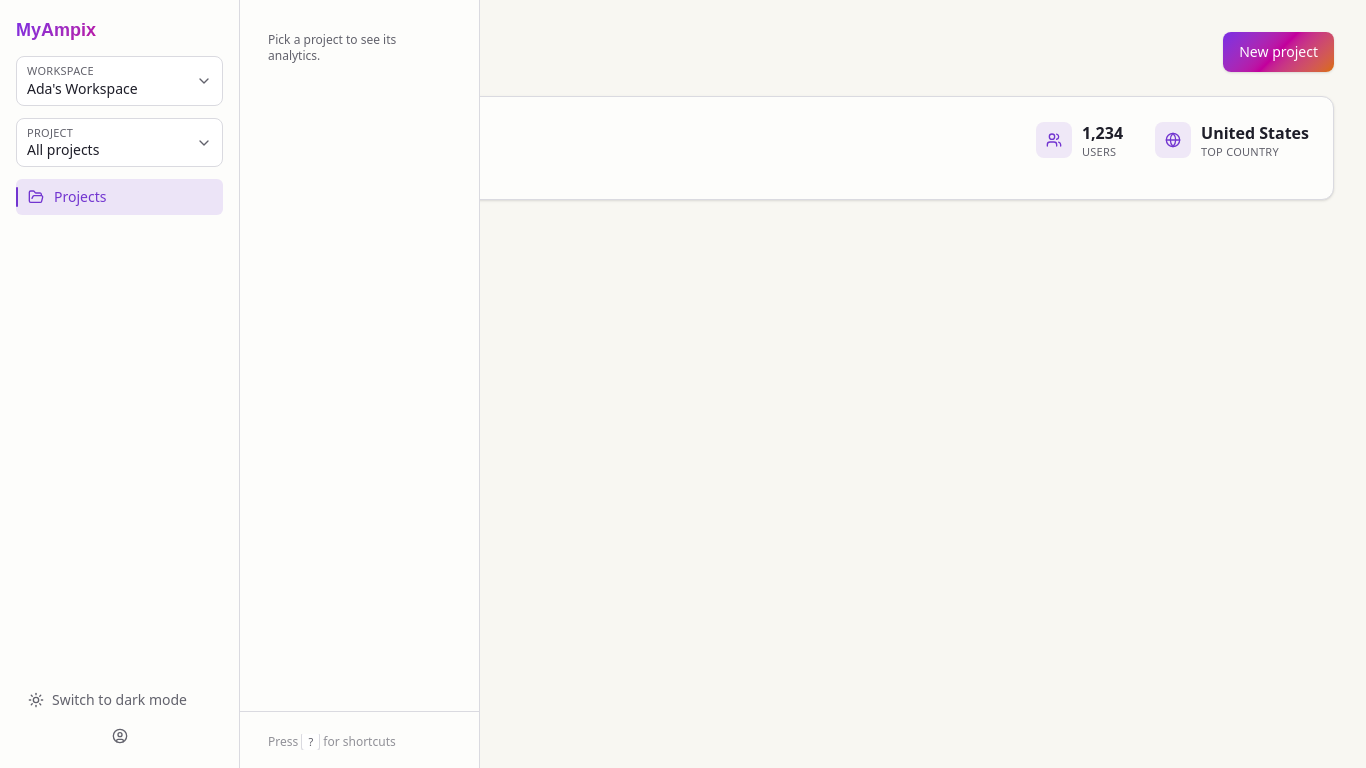
Test: OrgSwitcher › creates a new organization from the top of the menu and switches to it
The width and height of the screenshot is (1366, 768).
Hover over the element with test id "global-sidebar" at (120, 384), box [0,0,240,767]
Expected: the text "Ada's Workspace" is shown, [27,79,138,98]
Click the button with aria-label "Switch workspace" at (120, 81), box [16,56,223,106]
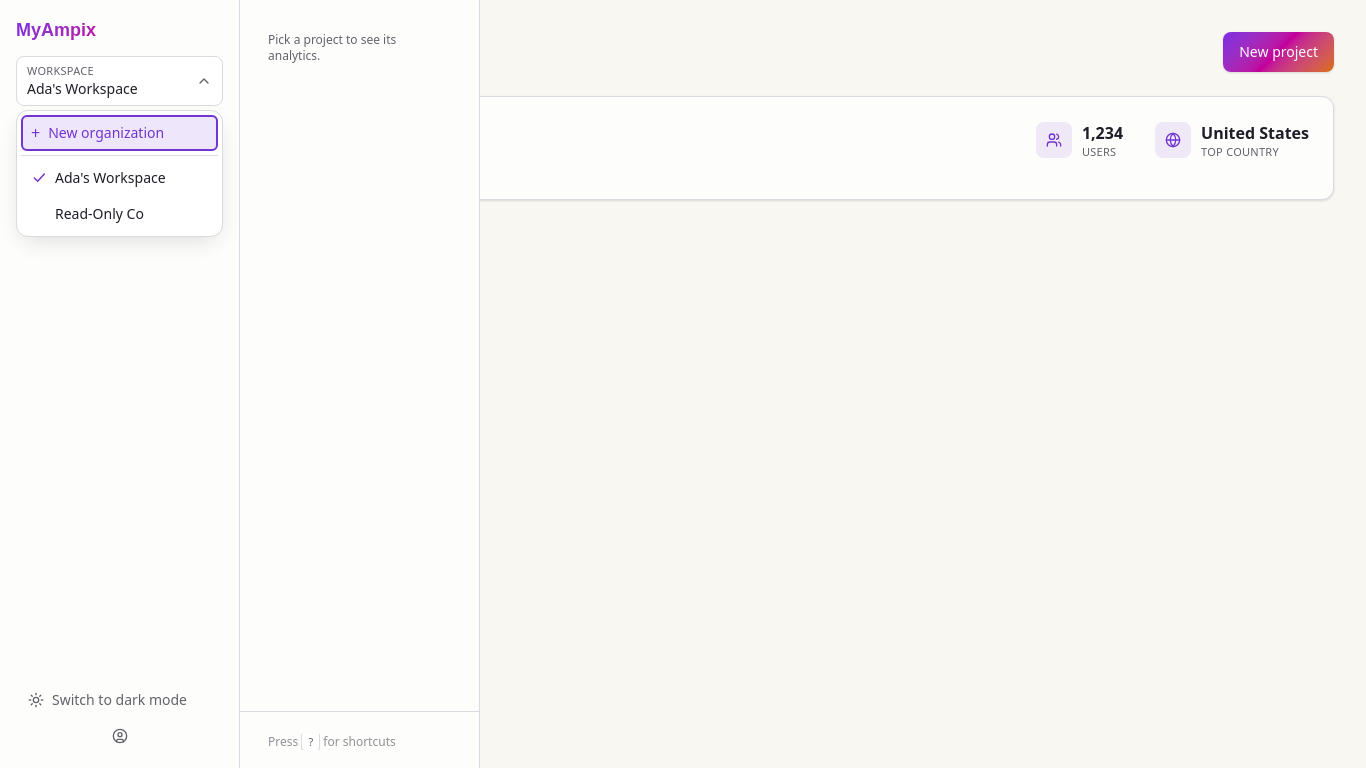
Click the menu item "+ New organization" at (120, 133), box [21,115,218,151]
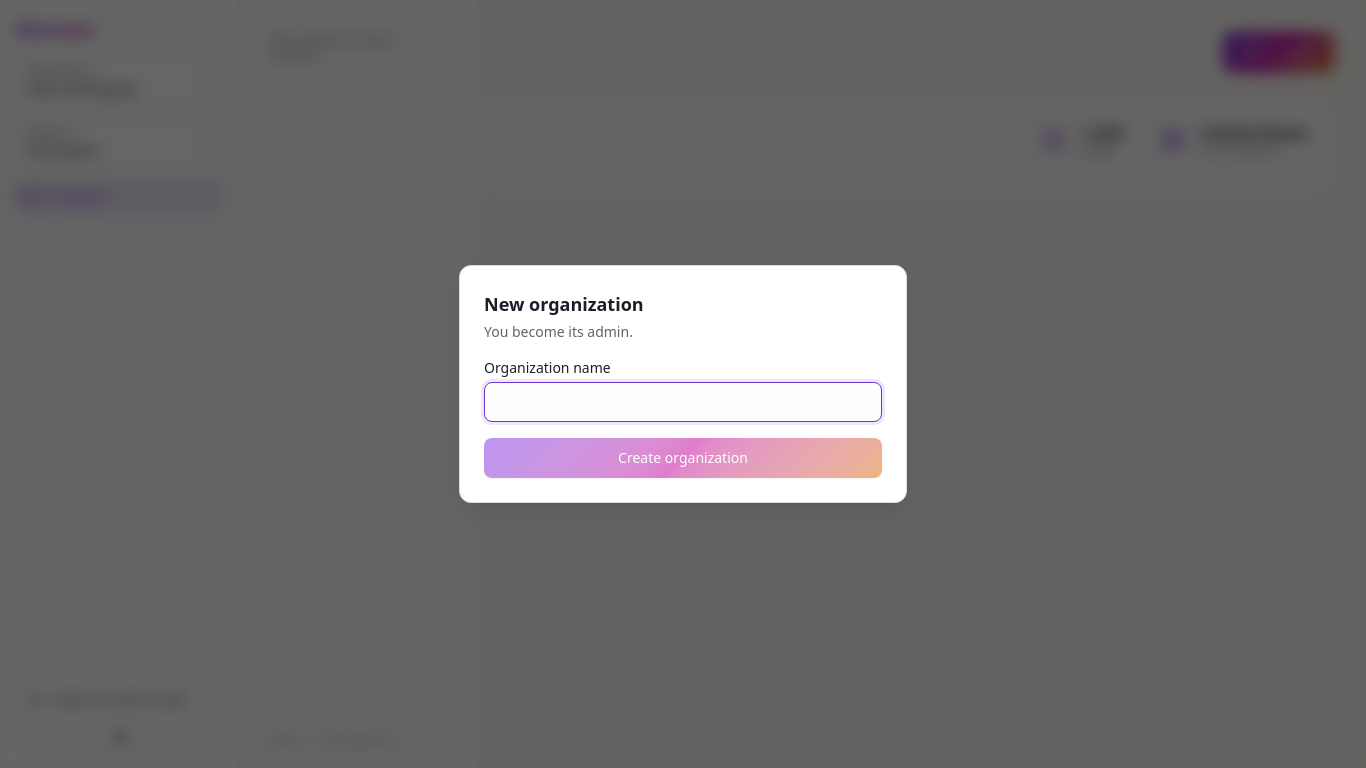
Type "Brand New Org" into the field labelled "Organization name" at (683, 402), box [484,382,882,422]
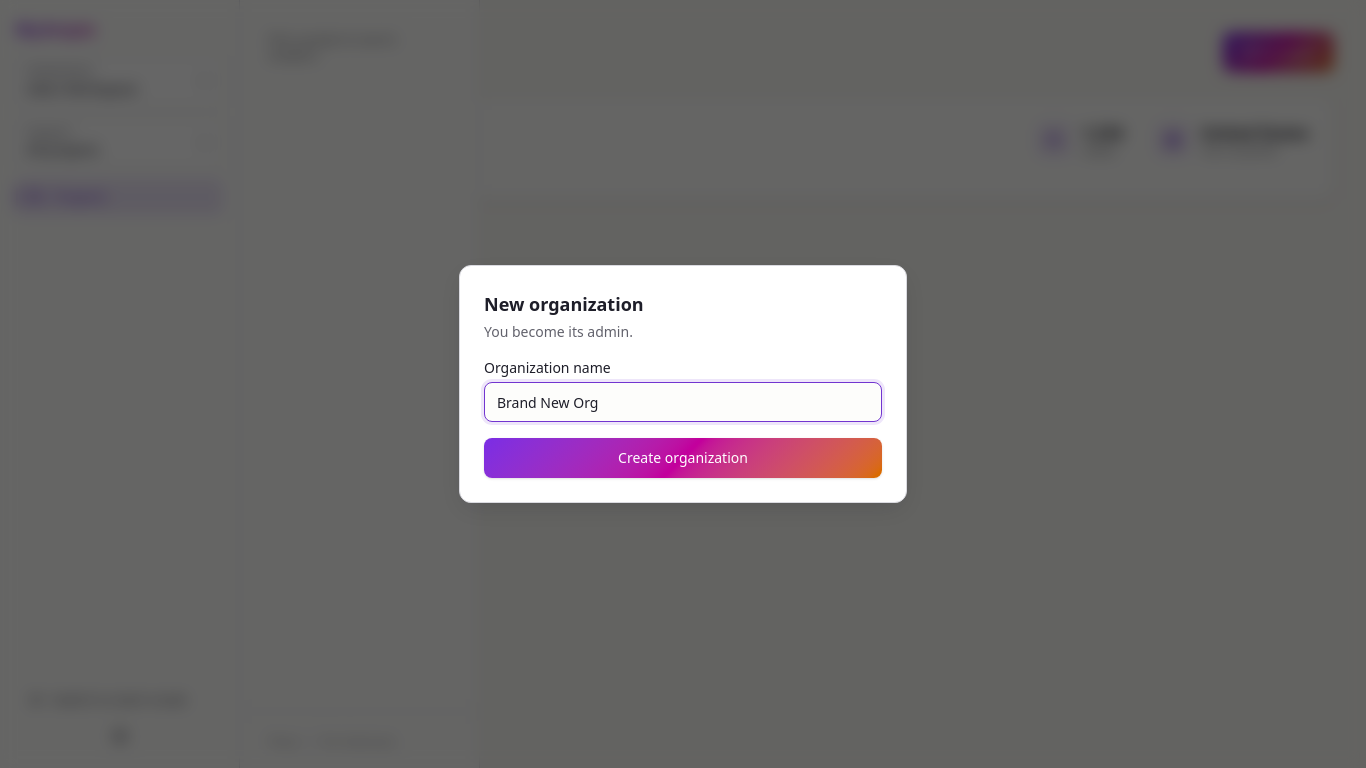
Click the button "Create organization" at (683, 458), box [484,438,882,478]
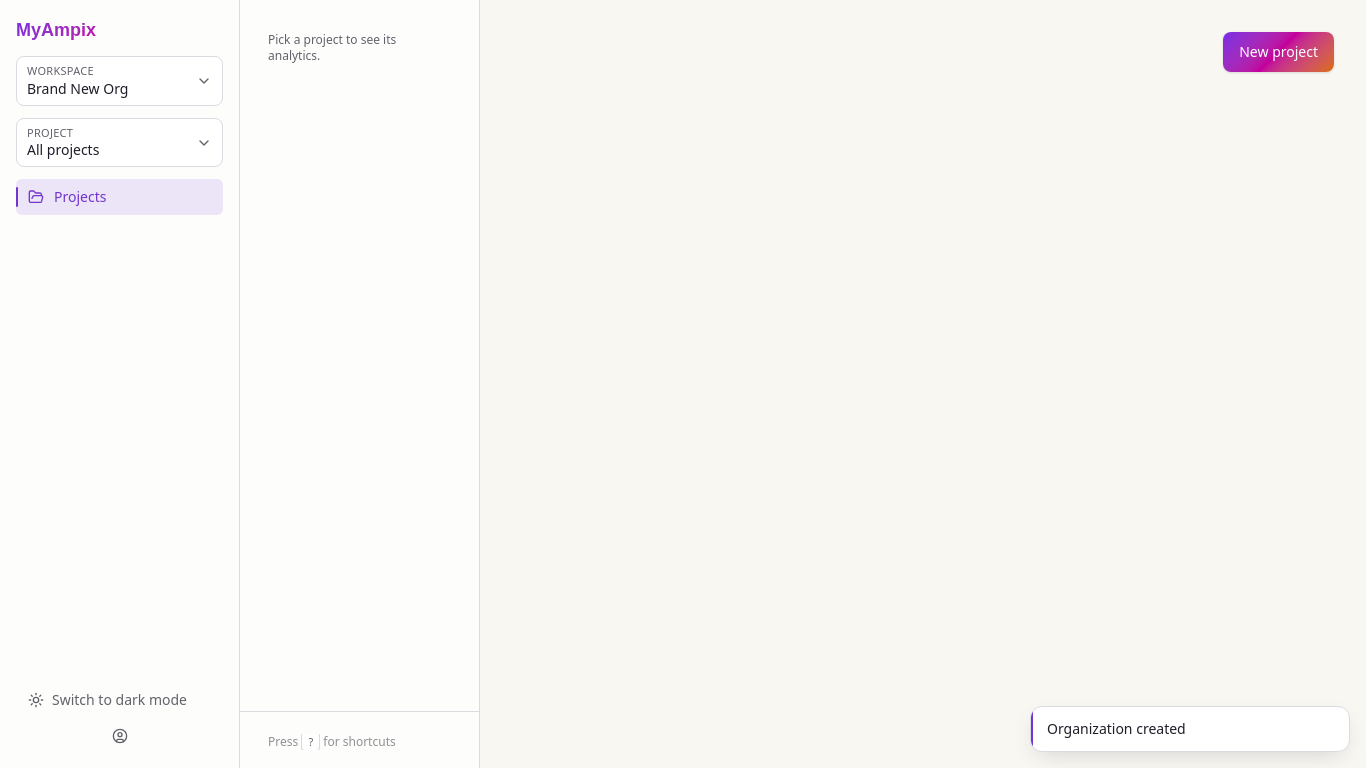
Expected: the dialog is gone
Expected: the text "Brand New Org" is shown, [27,79,128,98]
